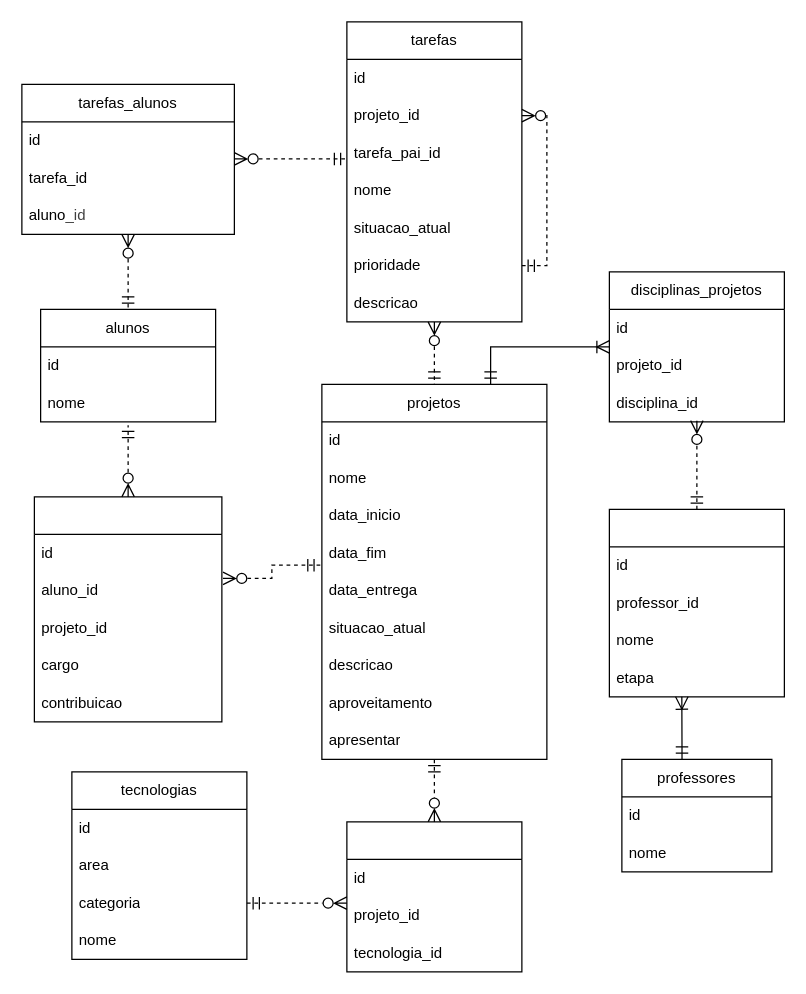
Some shapes in this 806 by 994 pixel diagram are drawn without their labels. The box of each missing label's shape, as (x1, y1, x2, y2) in pixels:
disciplinas: (608, 508, 784, 697)
projetos_alunos: (33, 496, 222, 722)
projetos_tecnologias: (346, 821, 522, 972)
